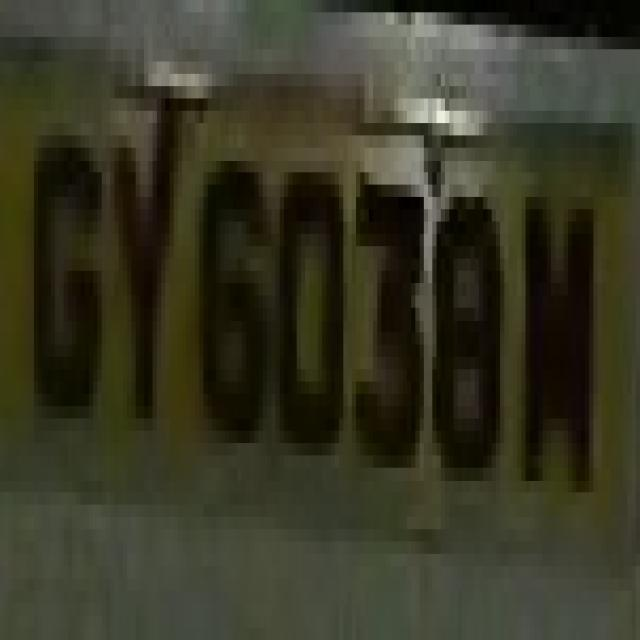0: (271, 135, 352, 492)
3: (360, 148, 428, 455)
6: (191, 148, 271, 468)
8: (424, 185, 500, 504)
G: (34, 99, 106, 443)
M: (508, 172, 602, 530)
Y: (102, 74, 182, 431)
